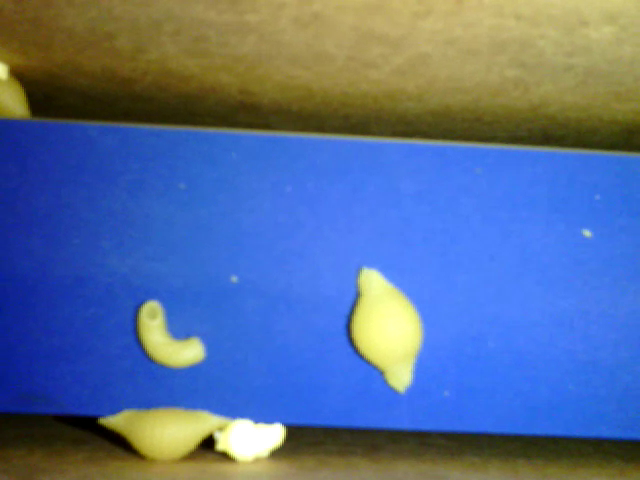elbow: (137, 301, 206, 369)
shell: (346, 266, 424, 393), (96, 407, 232, 462)
